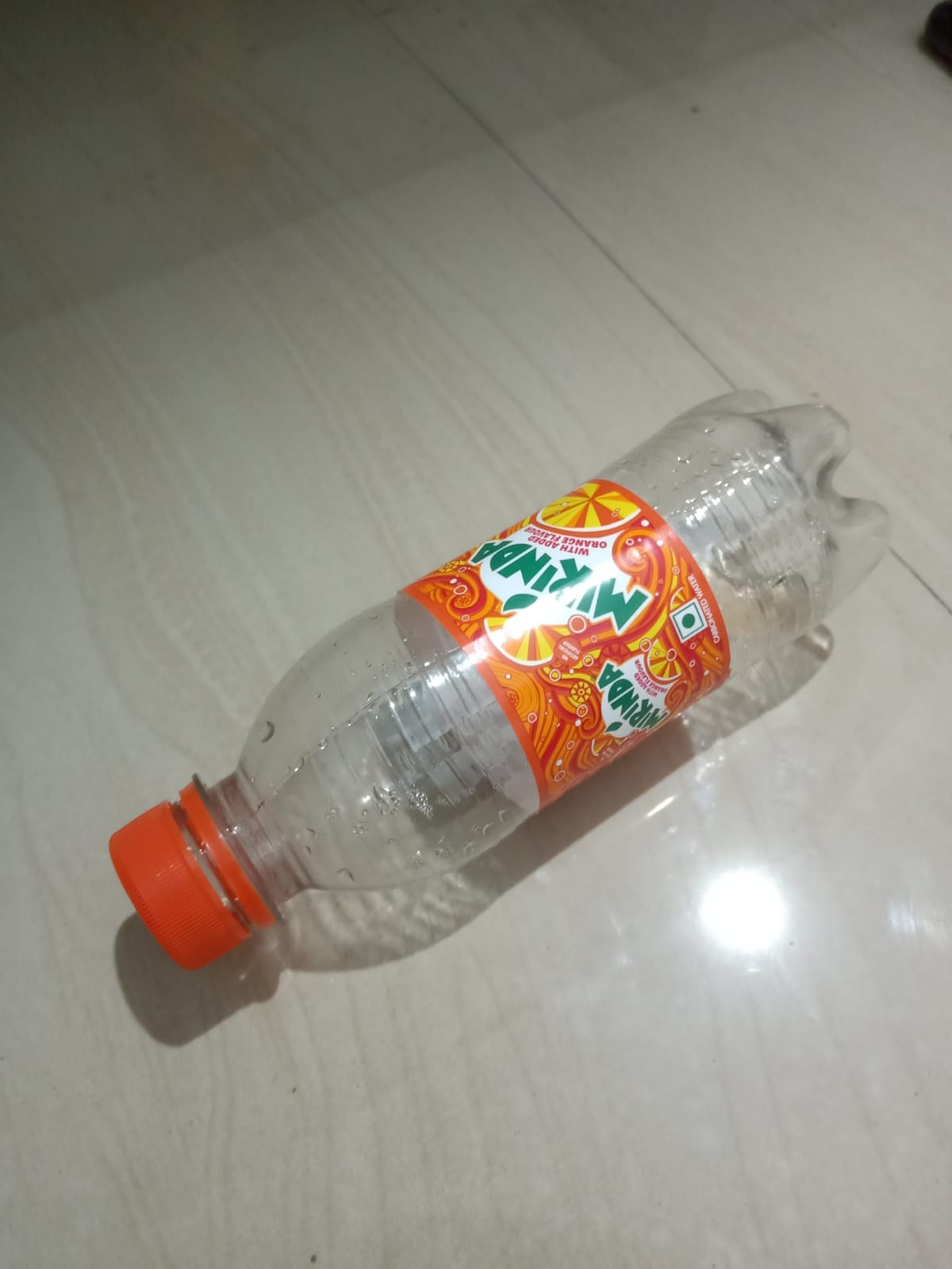plastic: (48, 370, 952, 979)
